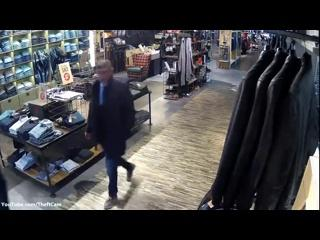Normal: (84, 60, 136, 208)
